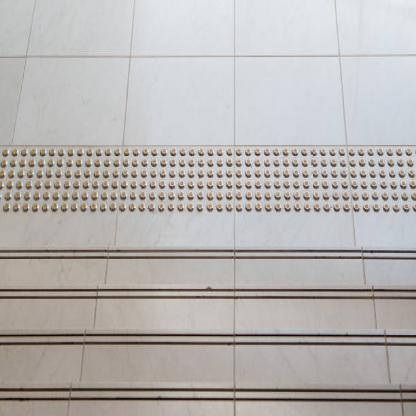podotacti: (1, 144, 413, 216)
